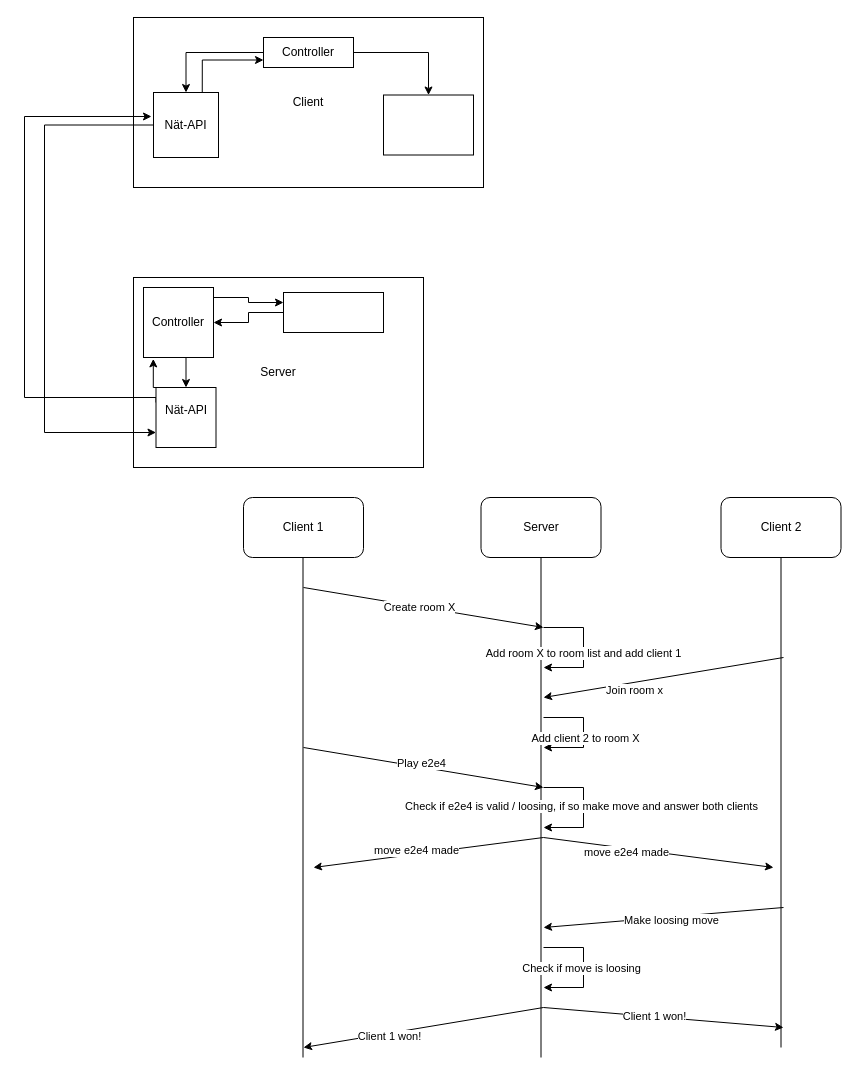
The diagram is 859 pixels wide and 1076 high, and some of its shapes have lost their labels. Here are the shapes that lost their labels. From the top down, the centre of each, then its label:
At [428,124]: "GUI".
At [333,312]: "Chess engine".
